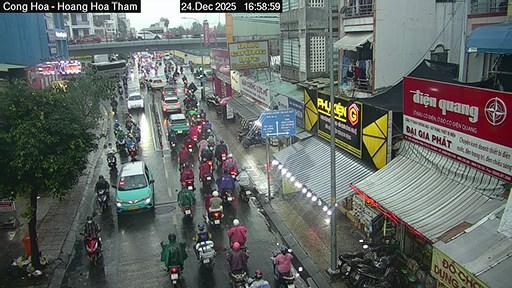motorbike: (339, 238, 390, 277), (336, 238, 380, 275), (348, 255, 396, 286), (272, 261, 297, 286), (236, 167, 252, 199), (83, 234, 101, 262), (195, 239, 213, 265), (201, 161, 213, 193), (242, 133, 265, 147), (230, 270, 246, 287), (201, 172, 213, 193), (96, 189, 108, 210), (167, 265, 179, 286), (208, 211, 221, 225), (221, 189, 233, 203), (236, 130, 249, 142), (181, 205, 192, 216), (128, 144, 135, 161), (107, 153, 115, 167), (201, 127, 211, 138), (207, 95, 216, 106), (117, 135, 124, 148), (169, 139, 176, 151), (186, 179, 194, 189), (230, 169, 236, 180), (217, 153, 226, 160), (186, 142, 192, 152), (217, 160, 224, 166), (112, 107, 117, 115), (272, 252, 277, 256), (288, 248, 291, 252), (298, 268, 300, 270)
